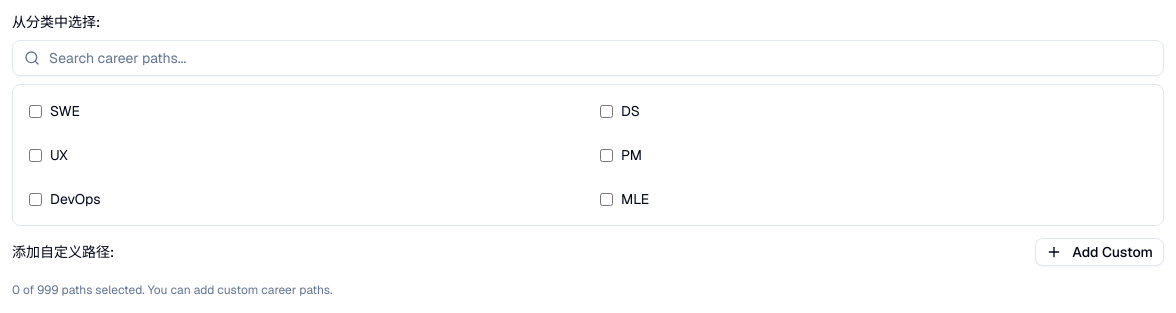
Test case: CareerPathMultiSelector › shows no available paths message when filtered results are empty
Type "nonexistent" into the field with placeholder "Search career paths..." at (588,58), box [12,40,1164,76]
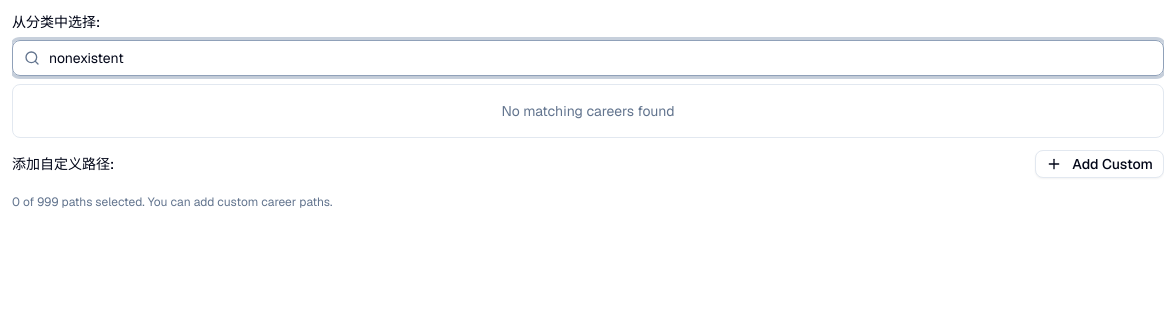
Expected: the text "No matching careers found" is shown, [12,84,1164,138]
